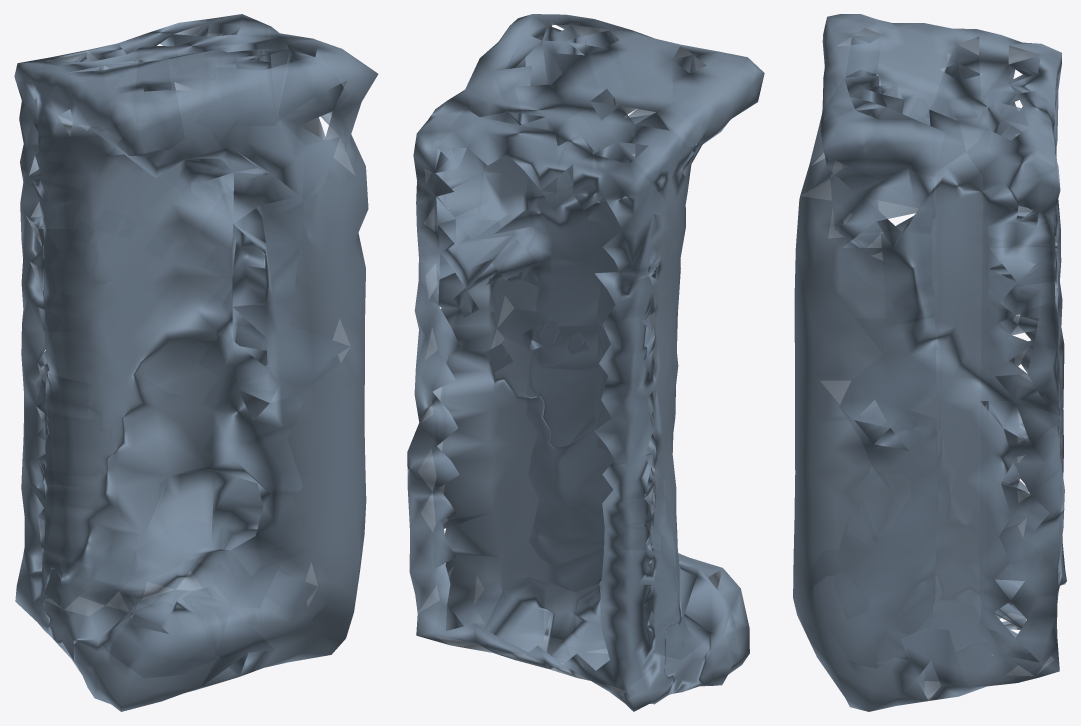
File: sofa_0111_recon.obj
The picture shows the model from 3 angles, left to right: view 1: azimuth 30°, elevation 25°; view 2: azimuth 150°, elevation 25°; view 3: azimuth 270°, elevation 25°; orthographic projection.
Bounding box in the file's own units: 0.7417 × 1.71 × 0.7015.
